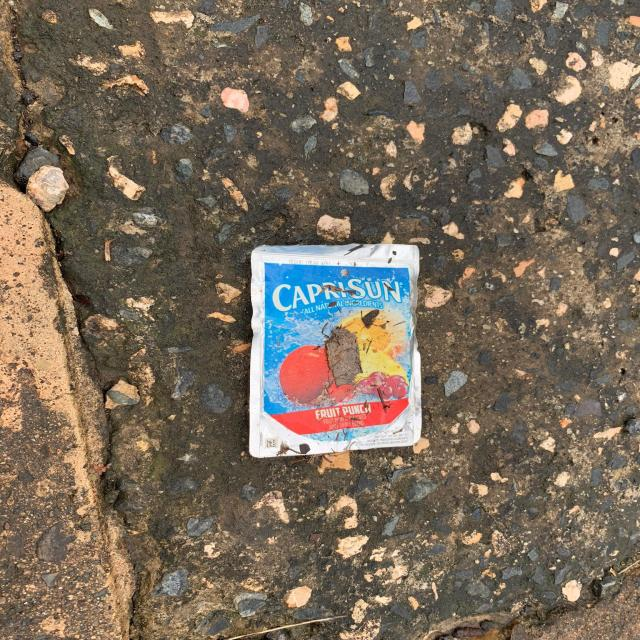litter: (235, 240, 428, 461)
